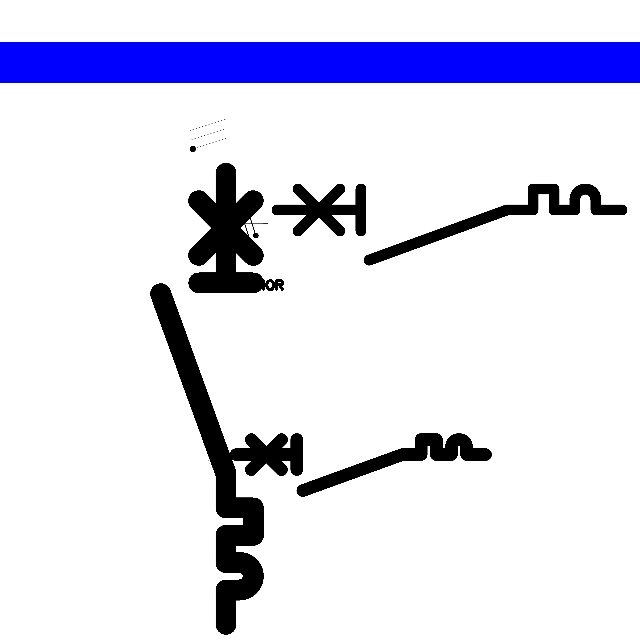interruptor_termomagnetico: (149, 161, 265, 636), (268, 180, 631, 268), (229, 433, 492, 497)
